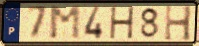4: (82, 5, 105, 41)
7: (26, 5, 49, 41)
8: (140, 7, 162, 40)
H: (163, 4, 194, 42), (109, 5, 136, 41)
M: (48, 5, 83, 41)
